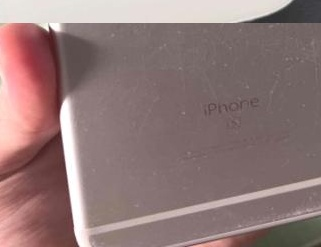scratch: (106, 23, 321, 148), (224, 144, 321, 240), (76, 209, 169, 247)
